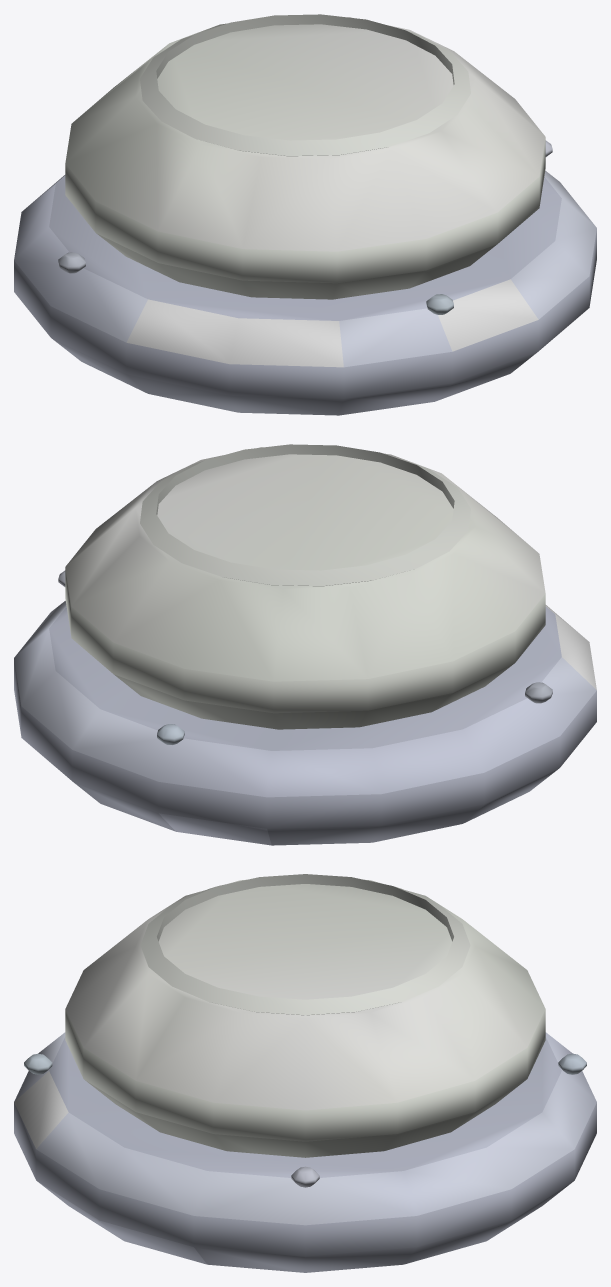
Rendered from SM_Station_ConsoleButton.fbx.
3 views of the same model, one above another, from view 1: azimuth 30°, elevation 25°; view 2: azimuth 150°, elevation 25°; view 3: azimuth 270°, elevation 25° (orthographic).
Visible parts, largest first — view 1: SM_Station_ConsoleButton; view 2: SM_Station_ConsoleButton; view 3: SM_Station_ConsoleButton.
Part boxes in pixels (left/top/right/bottom): SM_Station_ConsoleButton: left=14, top=14, right=596, bottom=415; SM_Station_ConsoleButton: left=14, top=444, right=596, bottom=845; SM_Station_ConsoleButton: left=14, top=874, right=596, bottom=1272.
Bounding box in the file's own units: 34.04 × 14.67 × 34.04.
